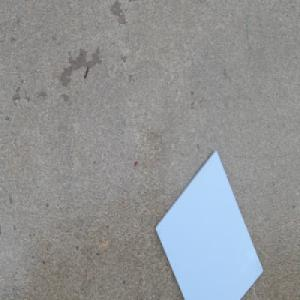PaintChip: (154, 149, 262, 300)
